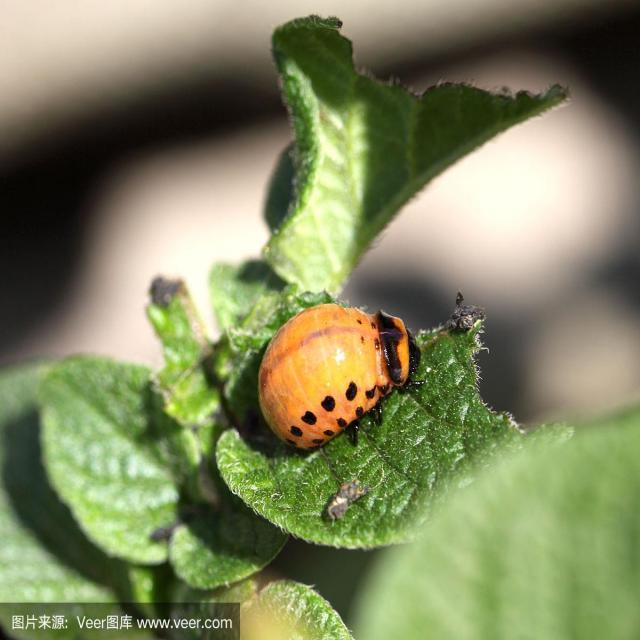ShuCaiHuaBanChong-Larva-: (252, 292, 444, 449)
